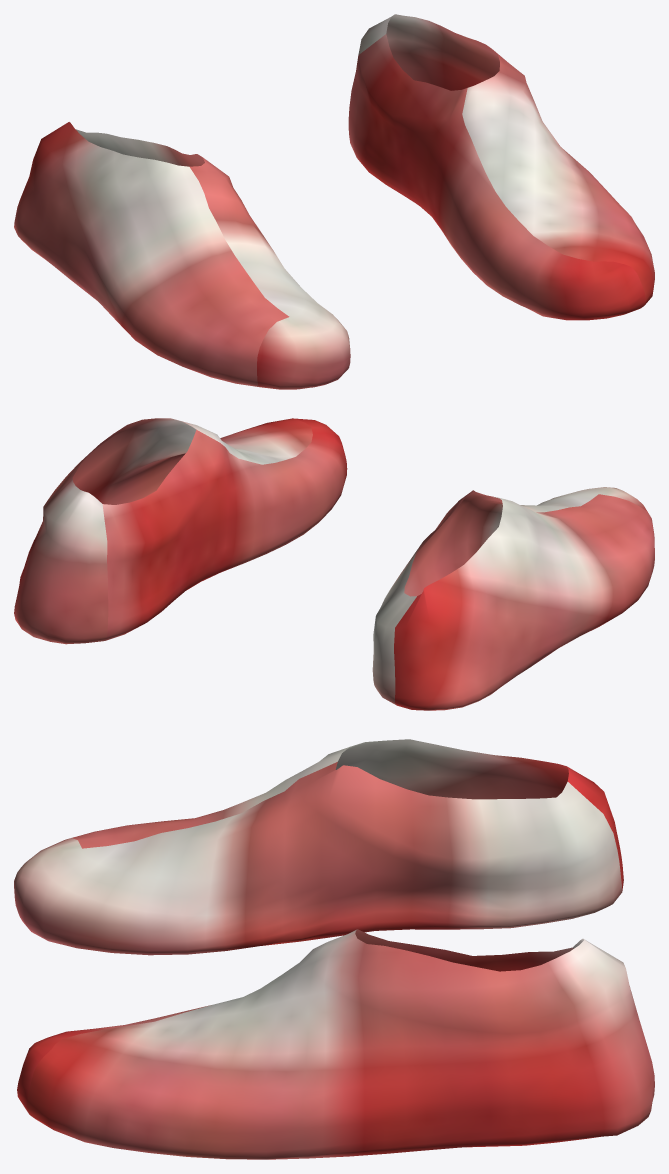
The model's file is shoes.gltf.
3 views of the same model, one above another, from view 1: azimuth 30°, elevation 25°; view 2: azimuth 150°, elevation 25°; view 3: azimuth 270°, elevation 25° (orthographic). The views are drawn at different scales.
Visible parts, largest first — view 1: shoes; view 2: shoes; view 3: shoes.
Boxes of the visible parts, x1,y1,x2,y2 form: shoes: (14,14,654,389); shoes: (14,418,654,710); shoes: (14,739,654,1159).
Bounding box in the file's own units: 0.3367 × 0.0994 × 0.3121.
1 material, 1 textured.
